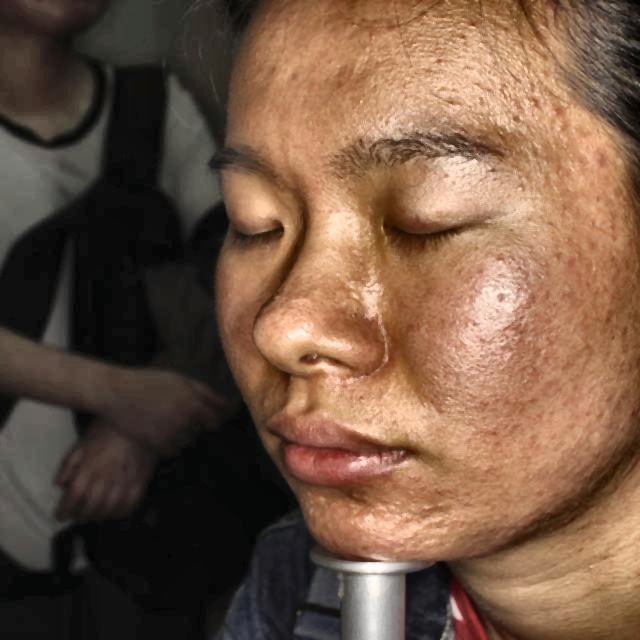comedone: (541, 100, 569, 140), (585, 144, 610, 180)
